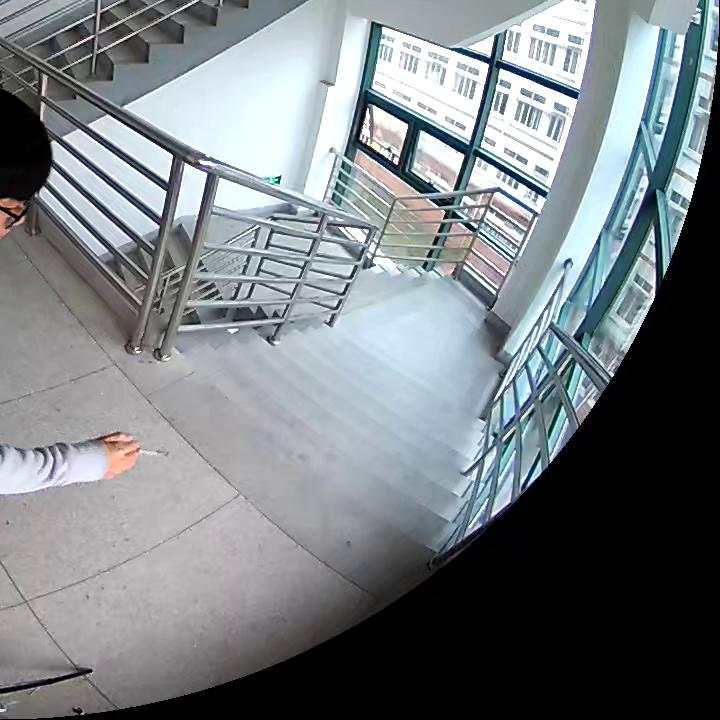handsmoke: (97, 431, 165, 479)
